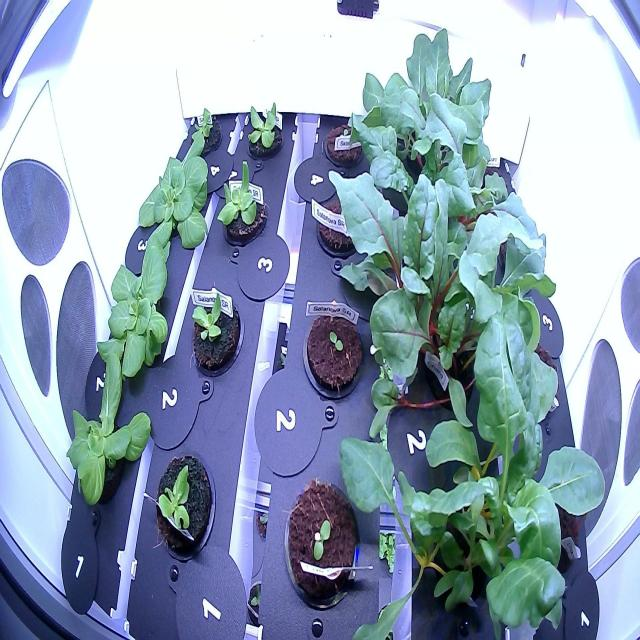germination: (277, 468, 361, 614), (296, 291, 371, 407), (319, 112, 369, 170)
pod: (308, 180, 372, 271)
young: (55, 346, 156, 512), (90, 230, 181, 384), (135, 130, 215, 277), (149, 442, 217, 563), (185, 278, 245, 383), (212, 156, 268, 249), (240, 92, 286, 172), (182, 100, 224, 159)
